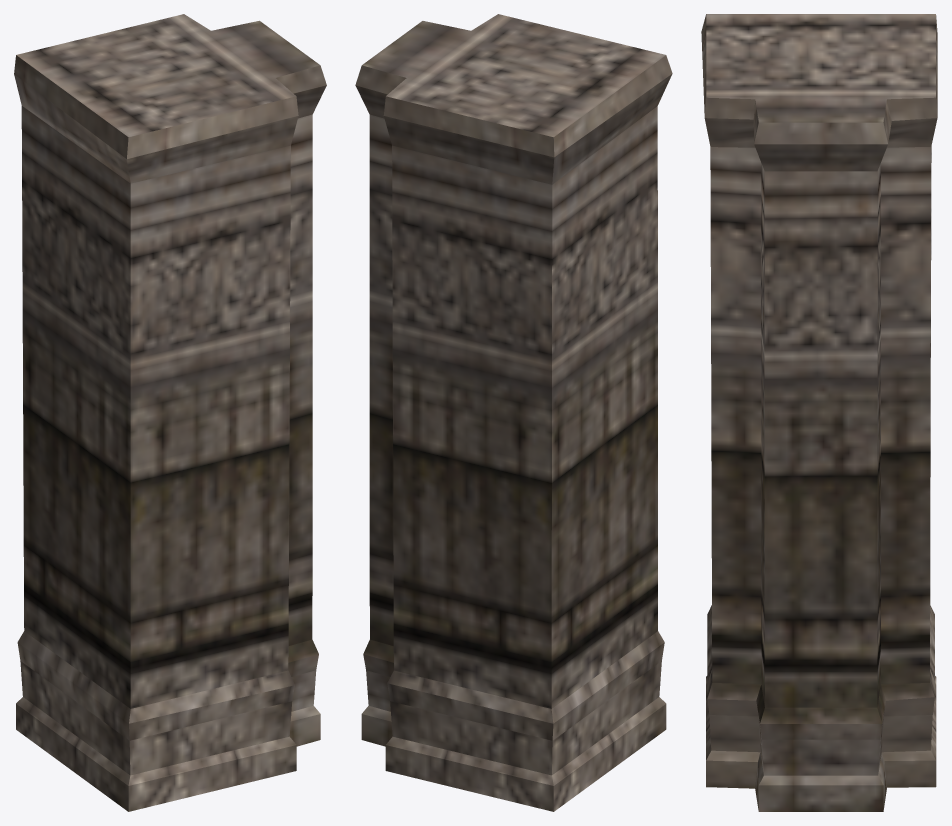
File: SM_zhucheng_Column_Mid_01.FBX
3 views of the same model, side by side, from view 1: azimuth 30°, elevation 25°; view 2: azimuth 150°, elevation 25°; view 3: azimuth 270°, elevation 25° (orthographic). The views are drawn at different scales.
Visible parts, largest first — view 1: SM_zhucheng_Column_Mid_01; view 2: SM_zhucheng_Column_Mid_01; view 3: SM_zhucheng_Column_Mid_01.
Part boxes in pixels (x1=…): SM_zhucheng_Column_Mid_01: x1=14, y1=14, x2=326, y2=811; SM_zhucheng_Column_Mid_01: x1=355, y1=14, x2=672, y2=811; SM_zhucheng_Column_Mid_01: x1=701, y1=14, x2=937, y2=811.
Size of the model in its own units: 57.14 by 163 by 50.62.
